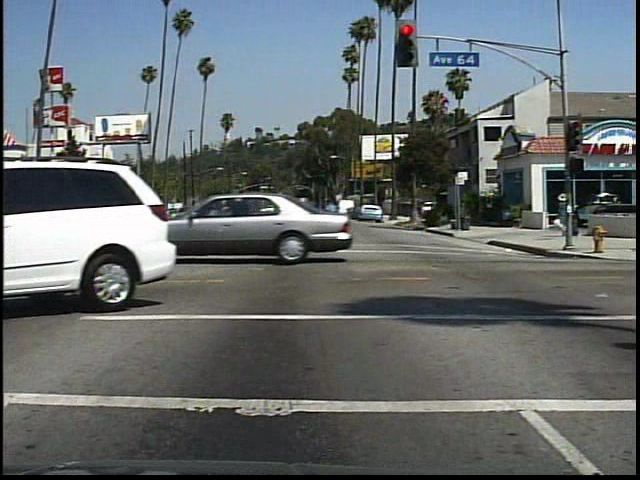person: (555, 189, 568, 238)
